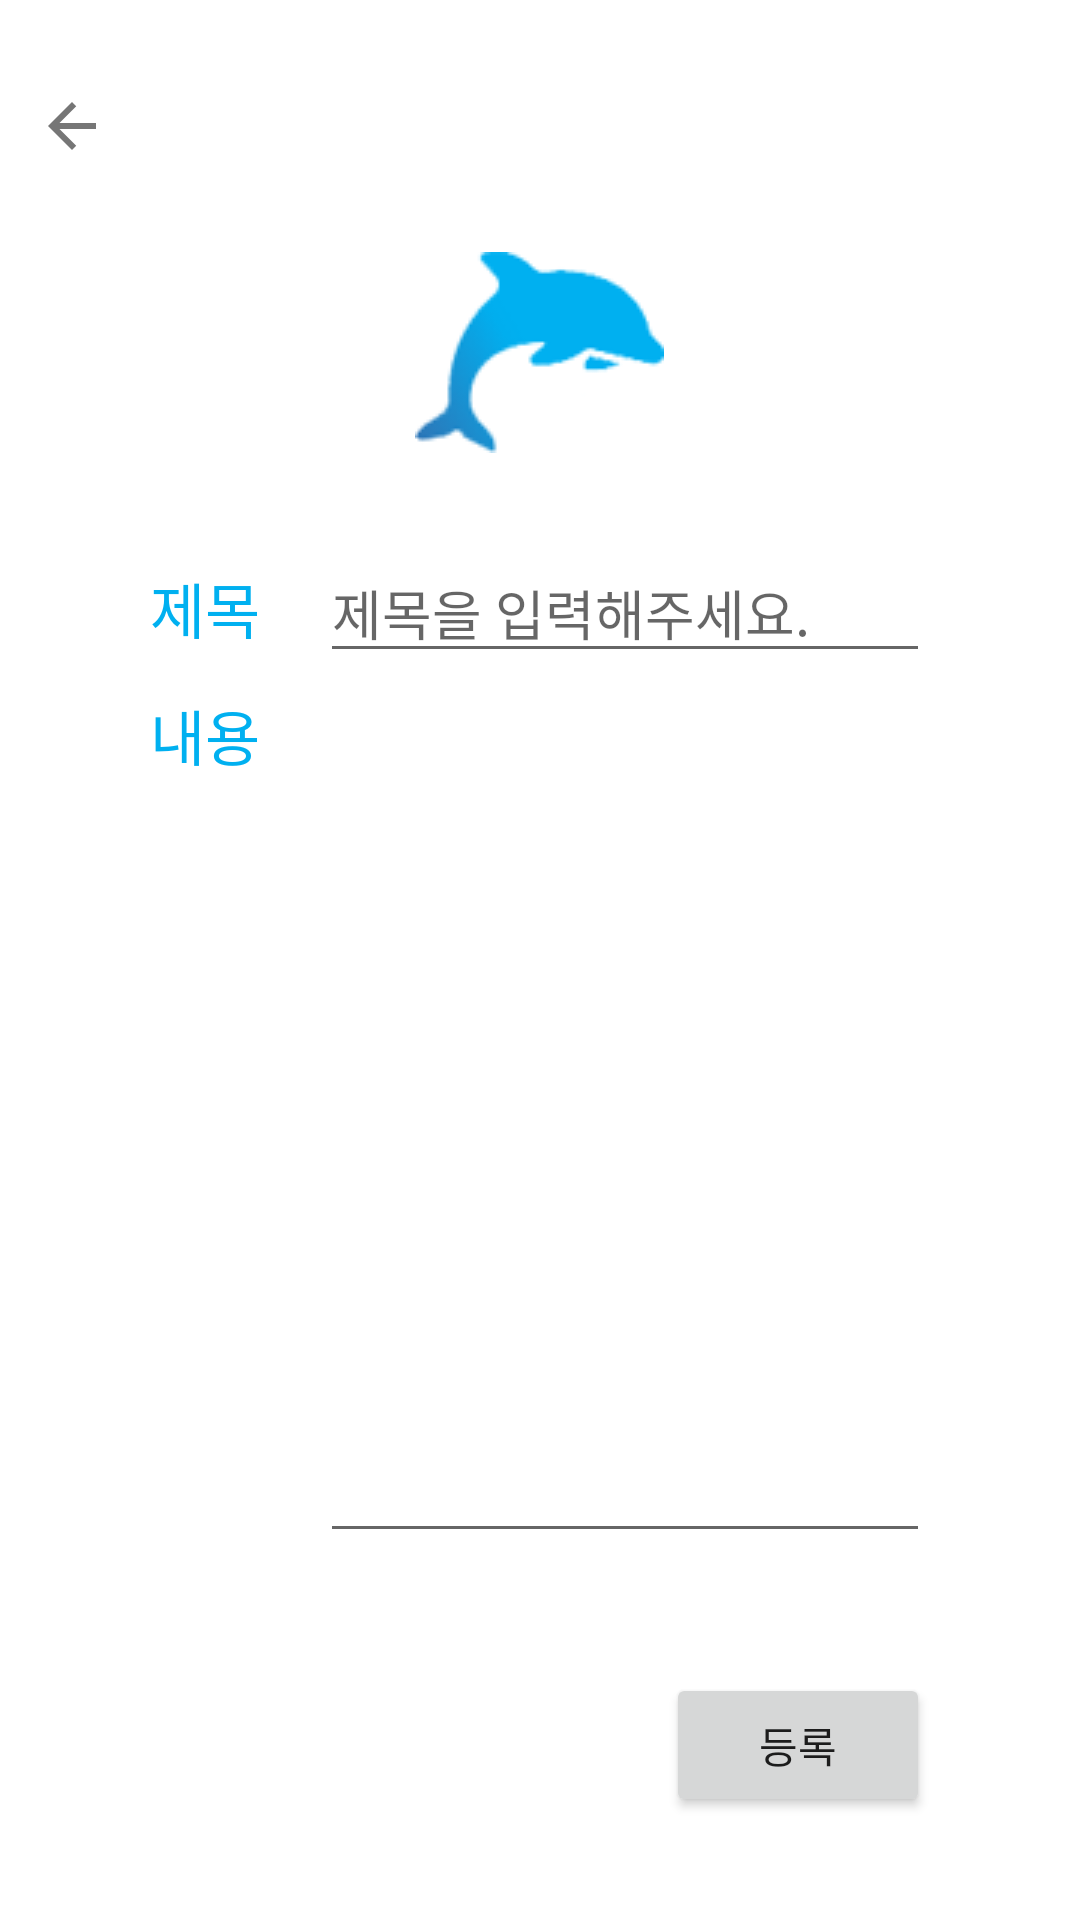

Screen size 1080px x 1920px. Icon name, then its center in pixels as (x,y):
arrow back: (72,126)
dolphins: (539,352)
